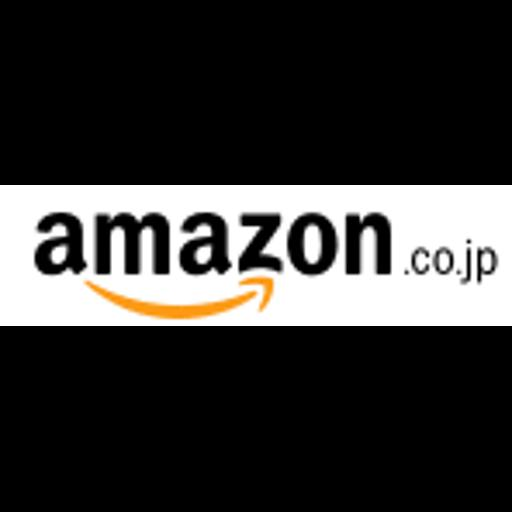Amazon: (0, 185, 512, 326)
